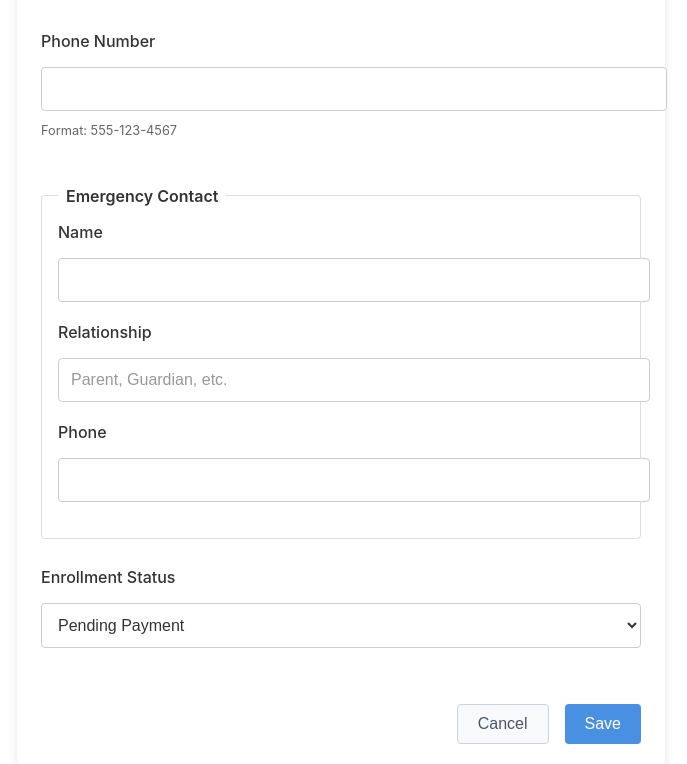
Test: AccessibleStudentForm › validates required fields and displays accessible error messages
(page scrolled)
Note: Try to submit an empty form
Step 1. Click the button "Save" → x=603, y=724, box [564,704,641,744]
(page scrolled)
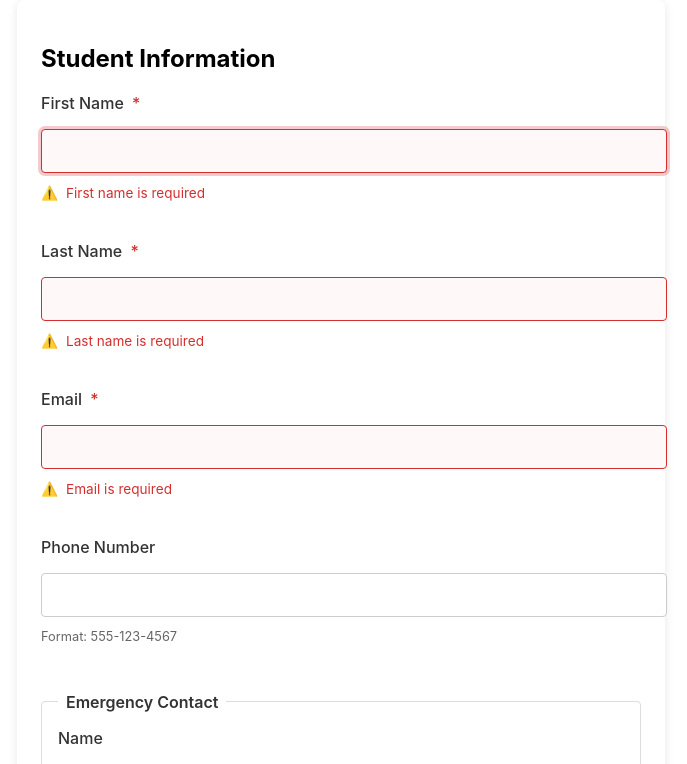
Expected: the text "First name is required" is shown, [66,185,205,201]
